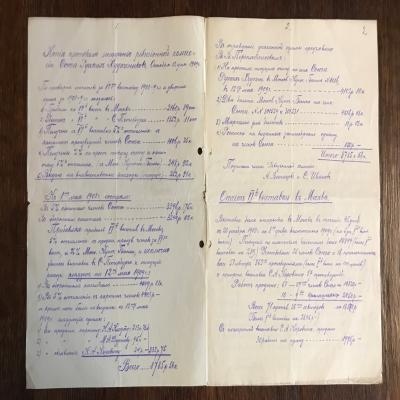document: (25, 16, 383, 391)
